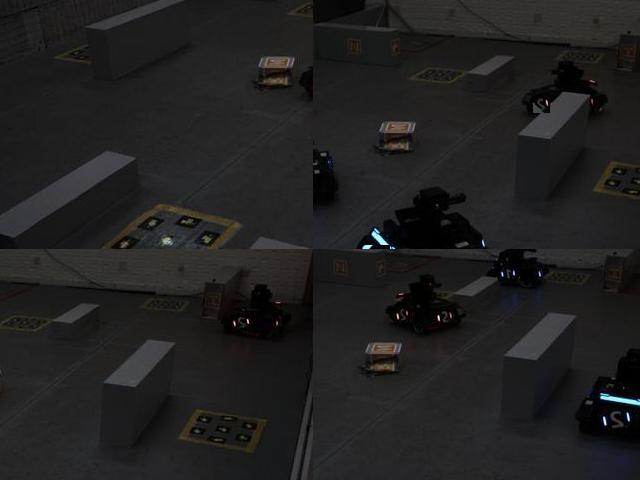armor: (599, 407, 637, 436), (230, 314, 256, 333), (534, 90, 552, 114), (432, 308, 455, 325), (498, 267, 521, 284), (394, 306, 413, 324)
